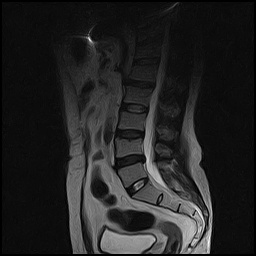L1,v2: (128, 61, 159, 80)
L1-L2,v1: (126, 75, 157, 94)
L2,: (122, 85, 153, 104)
L2-L3,v1: (119, 97, 150, 116)
L3,: (115, 108, 146, 127)
L3-L4,v5: (114, 124, 145, 143)
L4,: (112, 137, 143, 156)
L4-L5,v2: (113, 149, 144, 168)
L5,v2: (117, 163, 148, 182)
L5-S1,v1: (123, 175, 154, 194)
T12-L1,v1: (132, 49, 163, 68)
